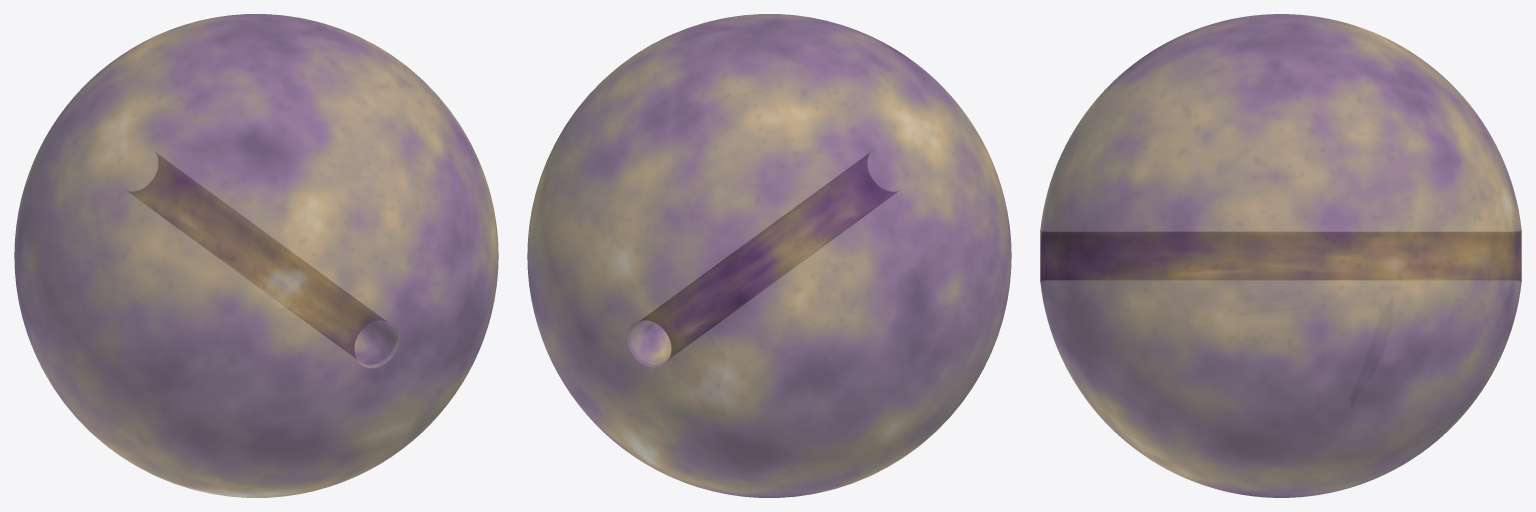
Rendered from super-seven-10mm.glb.
The picture shows the model from 3 angles, left to right: view 1: azimuth 30°, elevation 25°; view 2: azimuth 150°, elevation 25°; view 3: azimuth 270°, elevation 25°; orthographic projection.
Parts seen in each view (by area): view 1: super-seven.001; view 2: super-seven.001; view 3: super-seven.001.
Boxes of the visible parts, x1,y1,x2,y2 form: super-seven.001: (14,14,498,497); super-seven.001: (527,14,1011,497); super-seven.001: (1040,14,1521,497).
Bounding box in the file's own units: 0.01 × 0.01 × 0.00994.
Materials: 2 (1 with a texture image).
